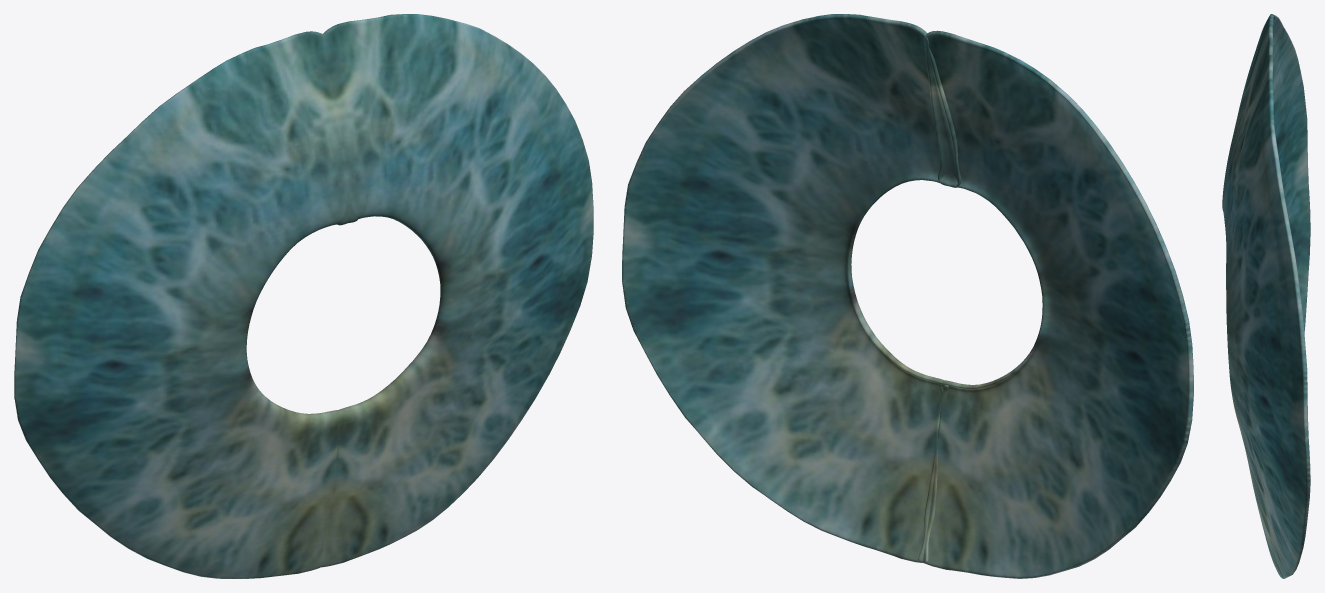
3 renders of one model, left to right at view 1: azimuth 30°, elevation 25°; view 2: azimuth 150°, elevation 25°; view 3: azimuth 270°, elevation 25°, orthographic. The views are drawn at different scales.
Visible parts, largest first — view 1: iris.001; view 2: iris.001; view 3: iris.001.
Part boxes in pixels (<box>): iris.001: <box>14,14,593,578</box>; iris.001: <box>622,14,1193,578</box>; iris.001: <box>1222,14,1310,578</box>.
Size of the model in its own units: 0.3387 by 0.3027 by 0.0492.
